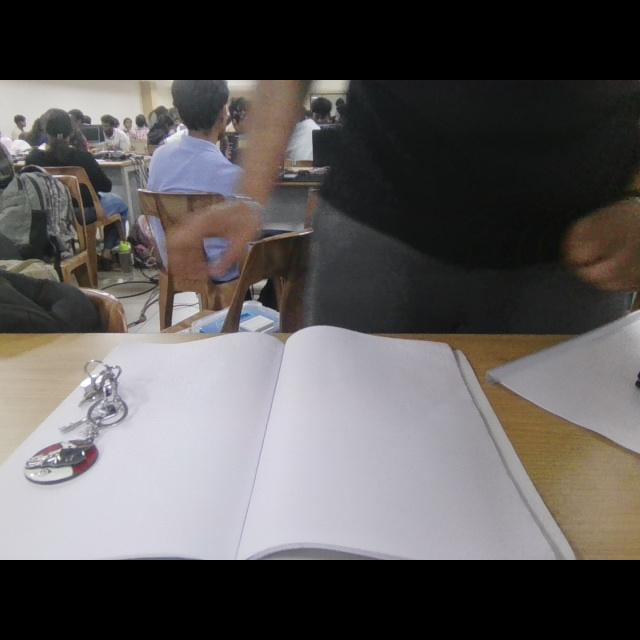keys: (23, 359, 128, 484), (60, 359, 128, 479)
